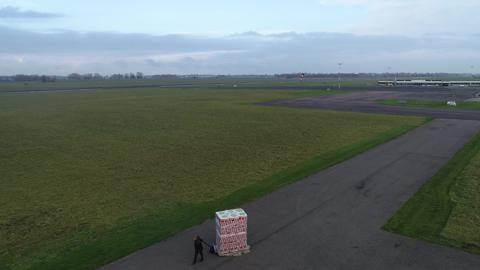RockwoolPallet: (214, 209, 249, 251)
